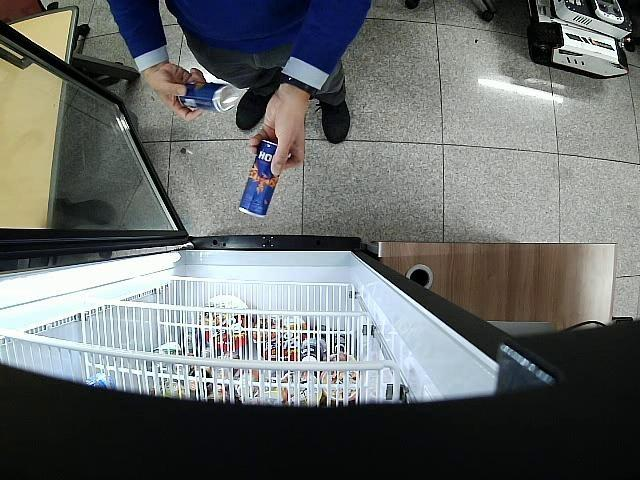16_hot6: (240, 140, 278, 218), (178, 84, 236, 112)
